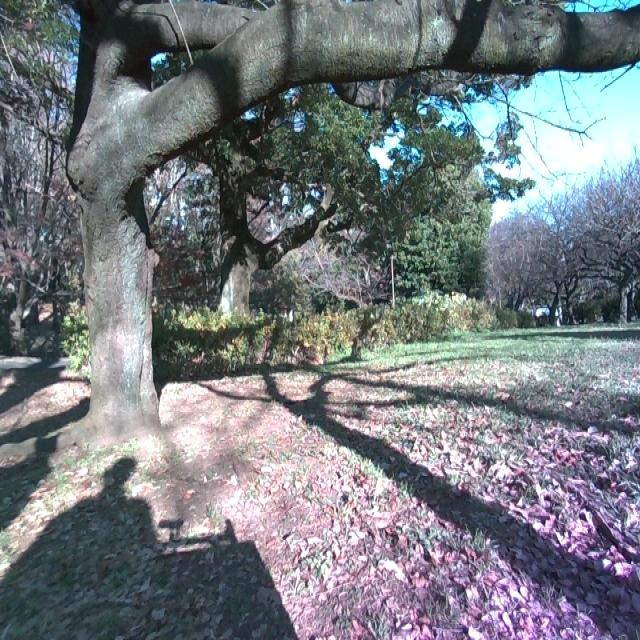bush: (158, 287, 504, 368)
tree: (72, 0, 640, 451), (221, 116, 338, 306), (546, 207, 587, 323)
